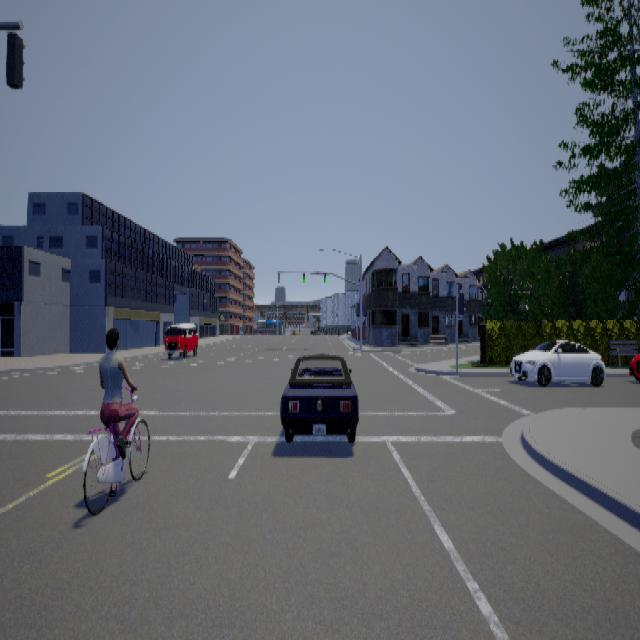bike: (79, 323, 152, 512)
green_light: (324, 272, 326, 282), (303, 272, 305, 282)
traffic_light: (278, 271, 280, 281)
vehicle: (279, 352, 358, 441), (508, 338, 605, 386), (164, 322, 198, 357)
